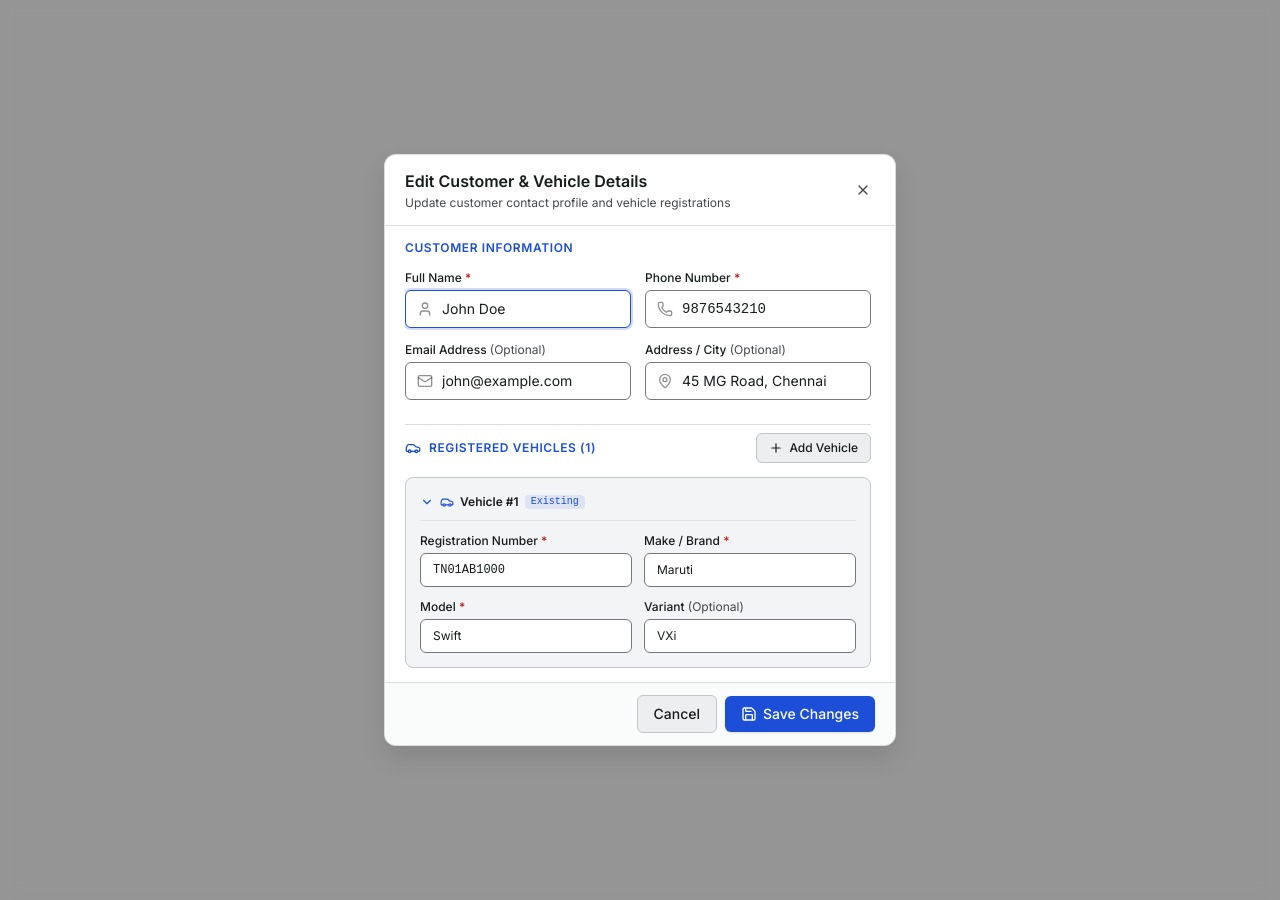
Scenario: EditCustomerModal Component & Vehicle Uniqueness › Test 2: vehicle conflict remains actionable and dismissing clears conflict UI while preserving inputs
Expected: the field showing "TN01AB1000" below "Registration Number" is shown, [420,553,632,587]
Click the button "Add Vehicle" at (814, 448), box [756,433,871,463]
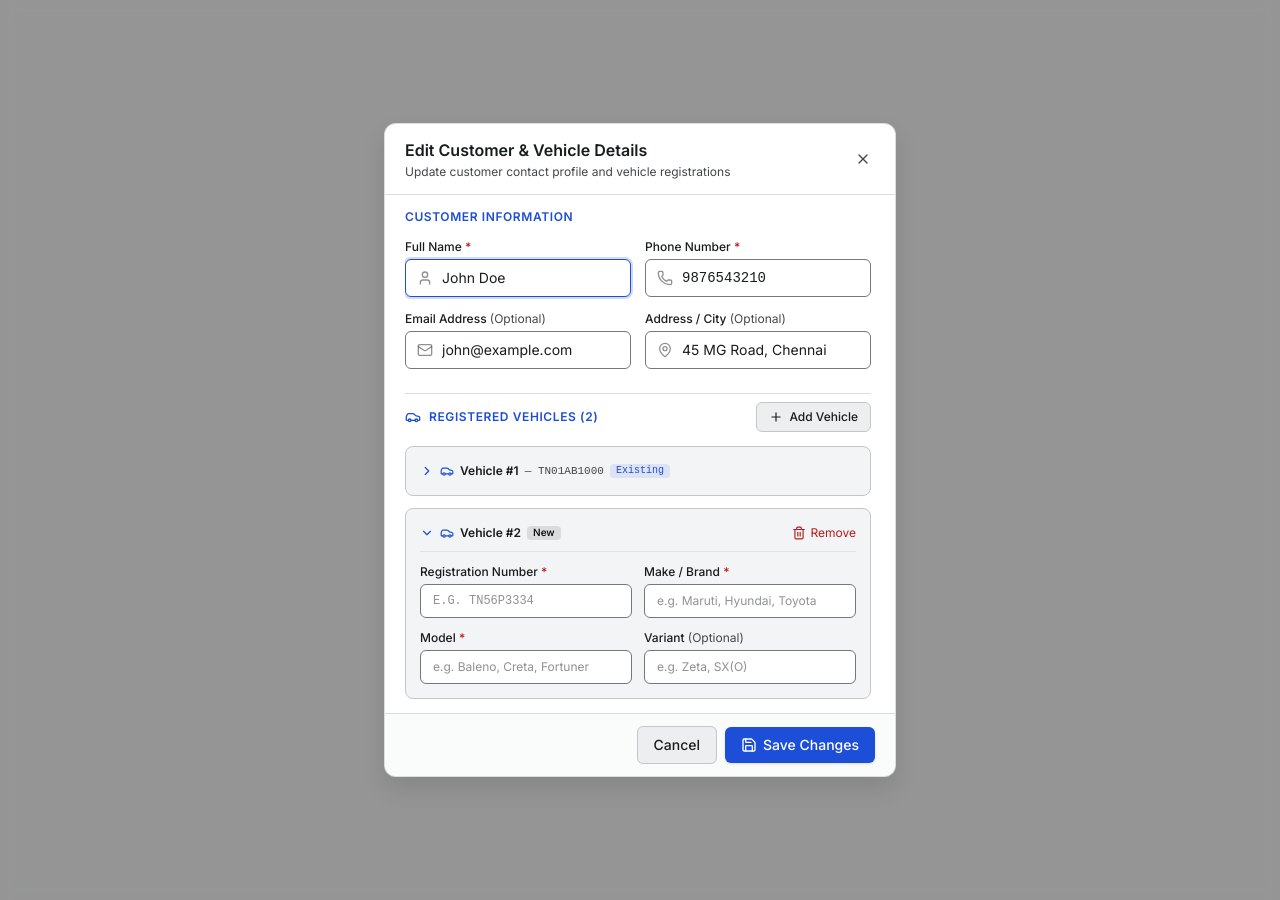
Type "TN56P3334" into the field with placeholder "e.g. TN56P3334" at (526, 601), box [420,584,632,618]
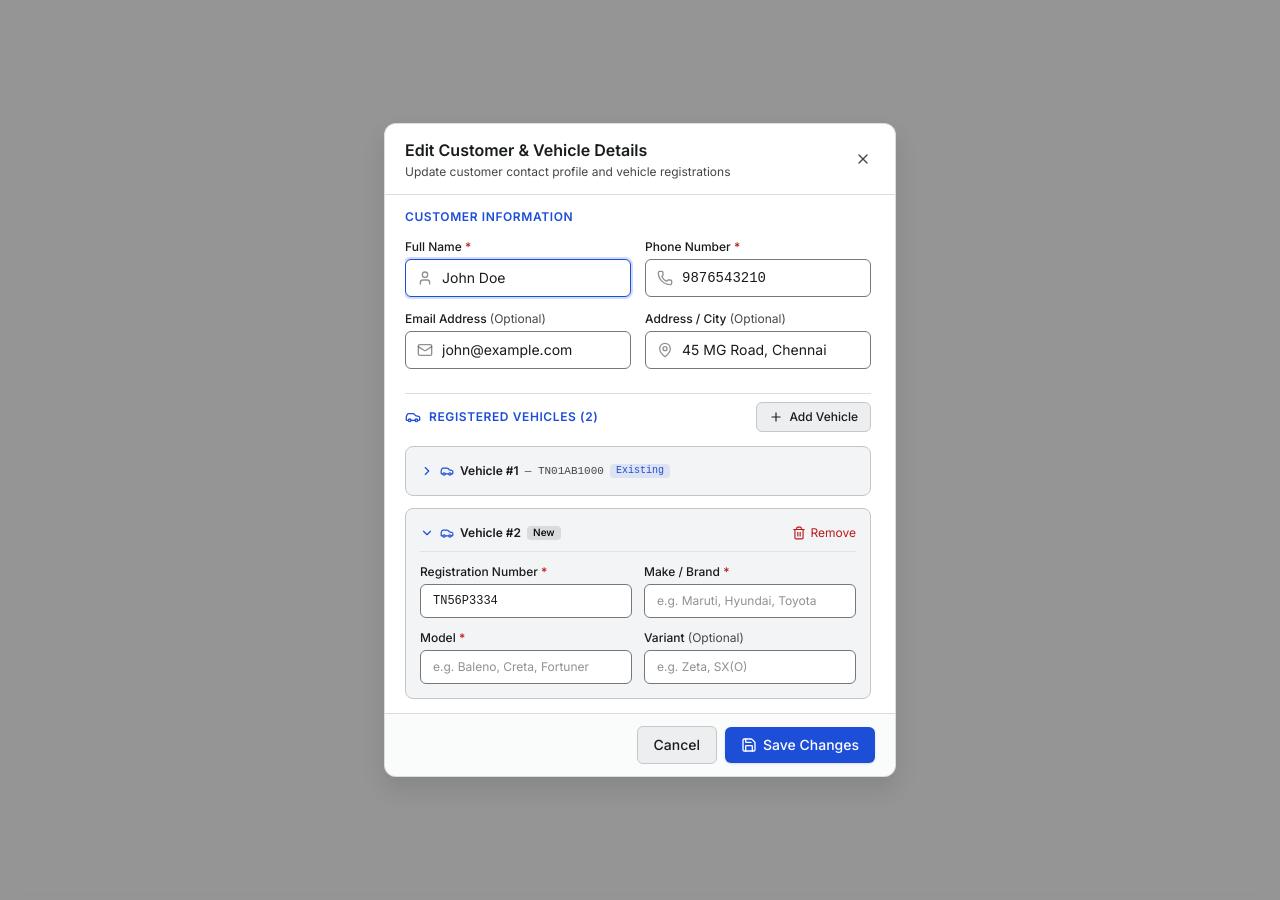
Type "Maruti" into the field with placeholder "e.g. Maruti, Hyundai, Toyota" at (750, 601), box [644,584,856,618]
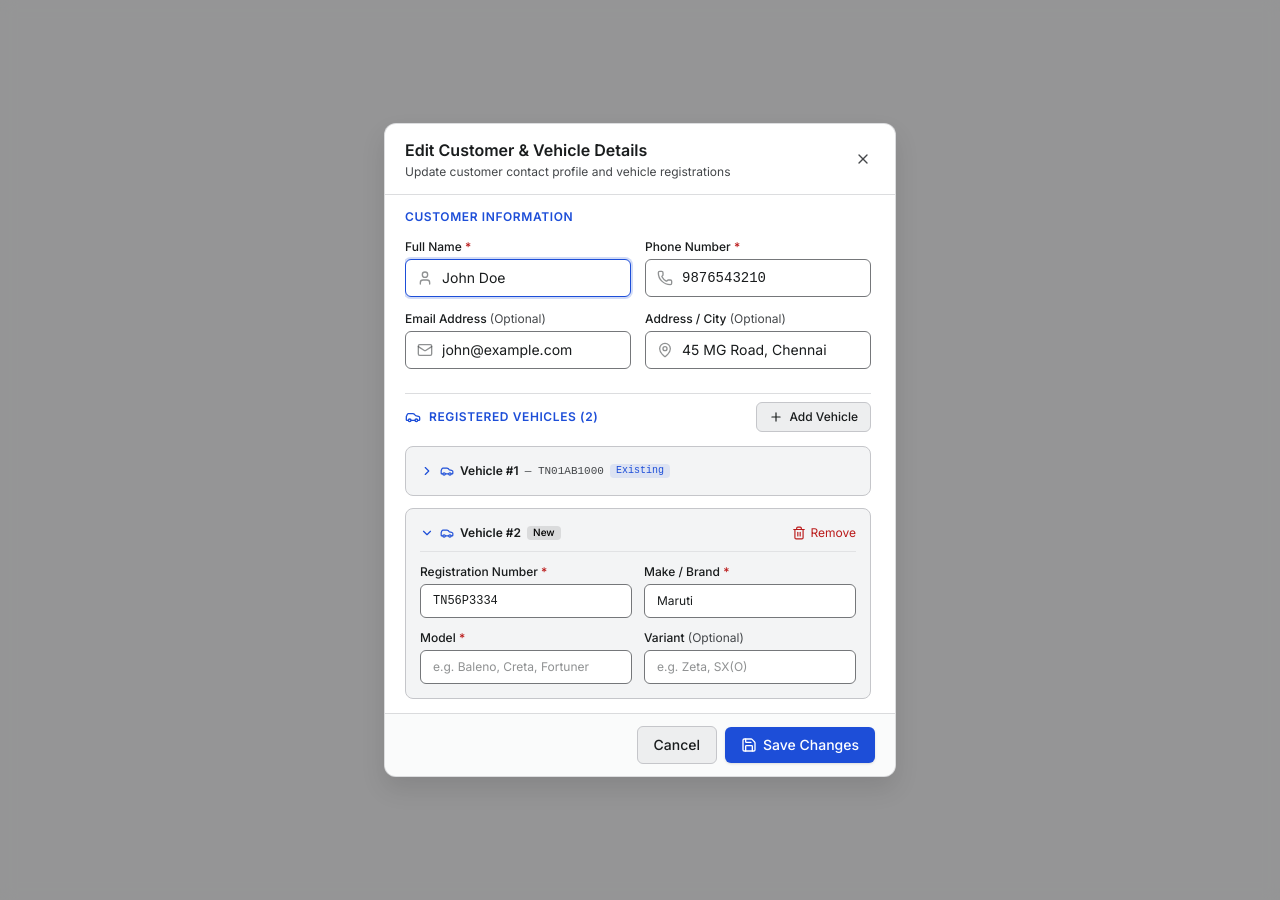
Type "Baleno" into the field with placeholder "e.g. Baleno, Creta, Fortuner" at (526, 667), box [420,650,632,684]
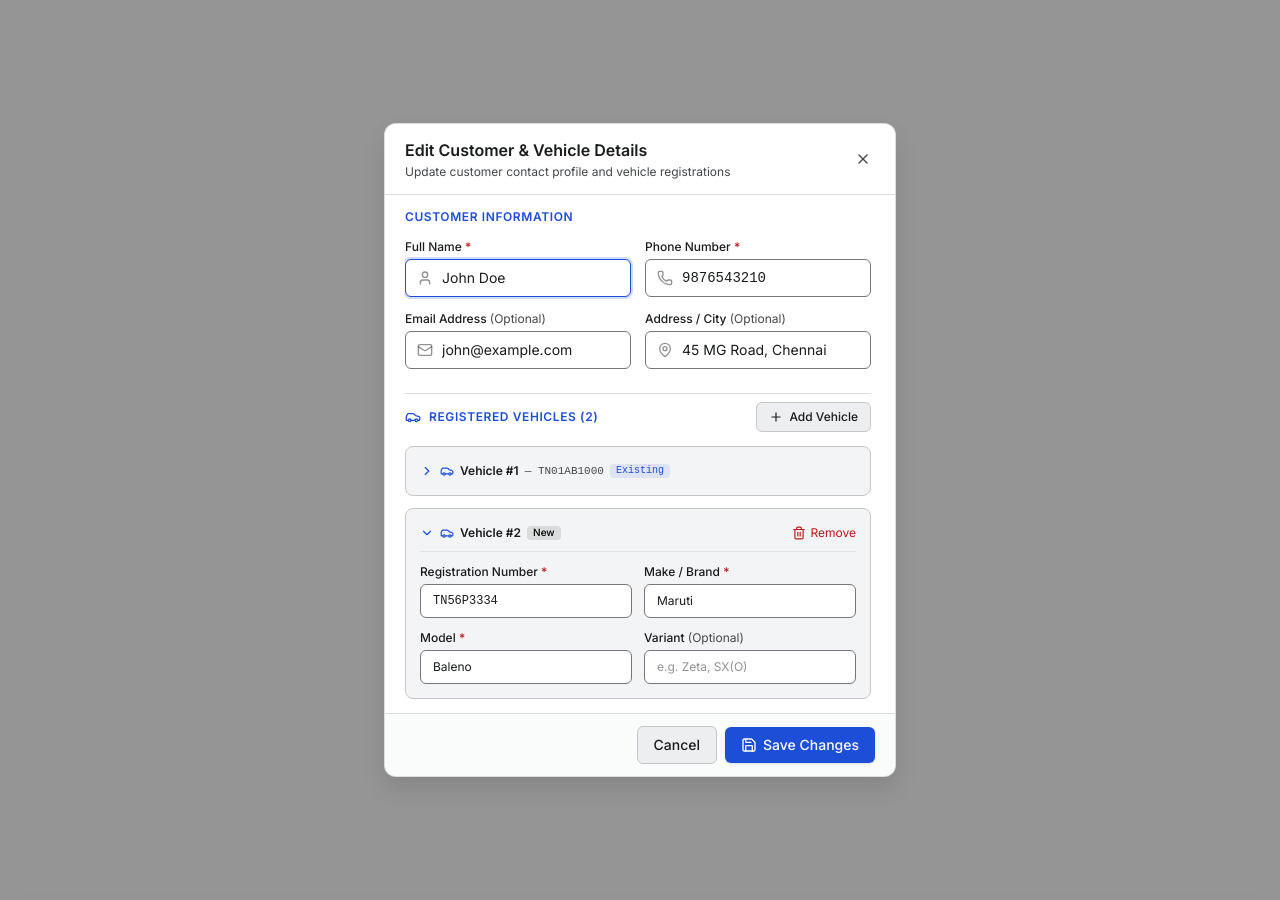
Click the button "Save Changes" at (800, 745), box [725,727,875,763]
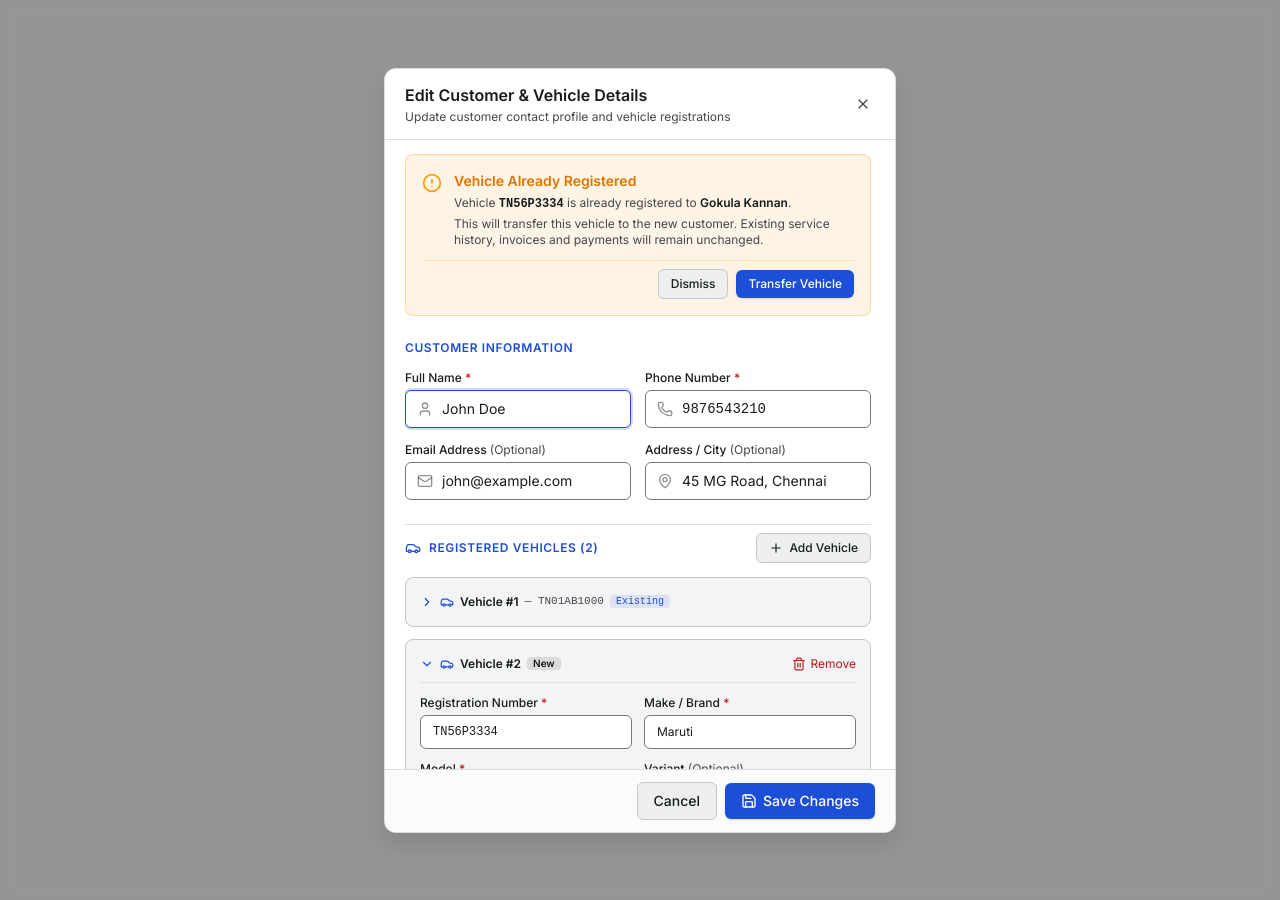
Result: the text "Vehicle Already Registered" is shown at [454,172,636,188]
Dismiss works
Click the button "Dismiss" at (693, 284), box [658,268,728,298]
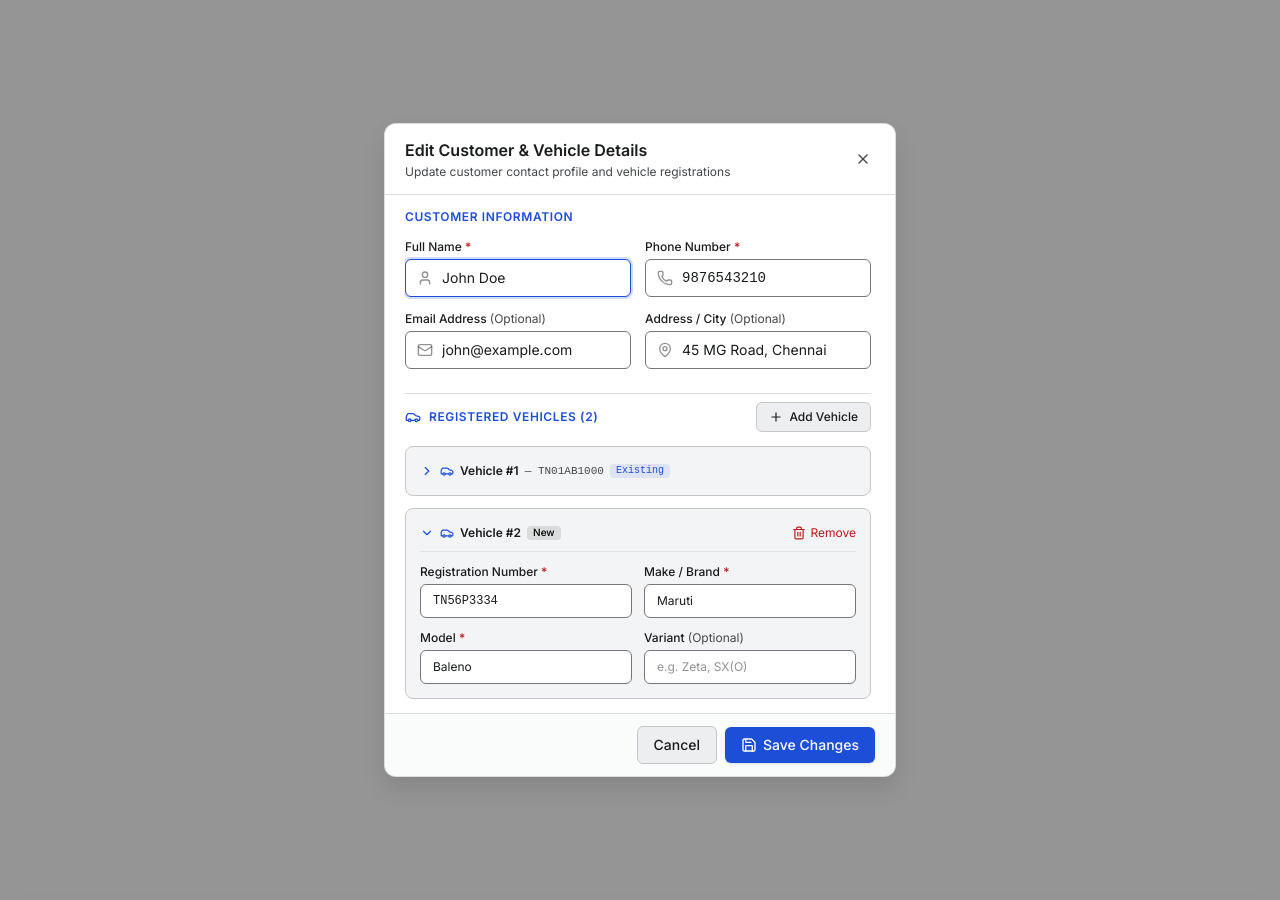
Result: the text "Vehicle Already Registered" is gone
Result: the button "Transfer Vehicle" is gone
